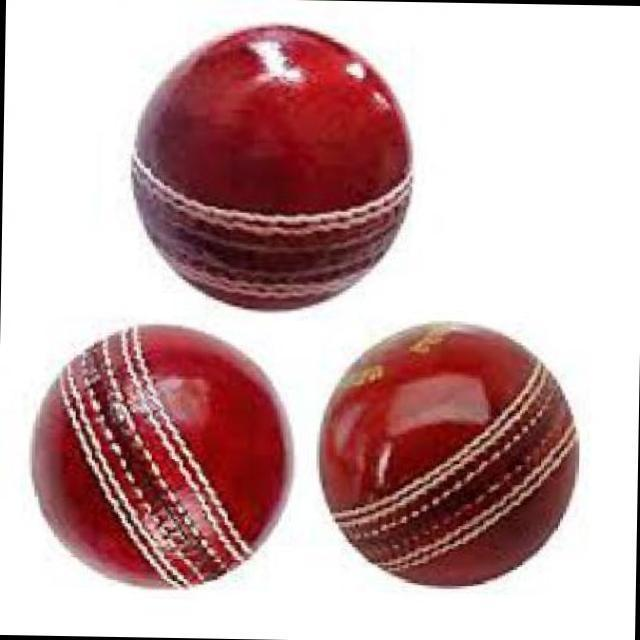-: (128, 32, 447, 314), (322, 313, 571, 590), (32, 335, 279, 578)
